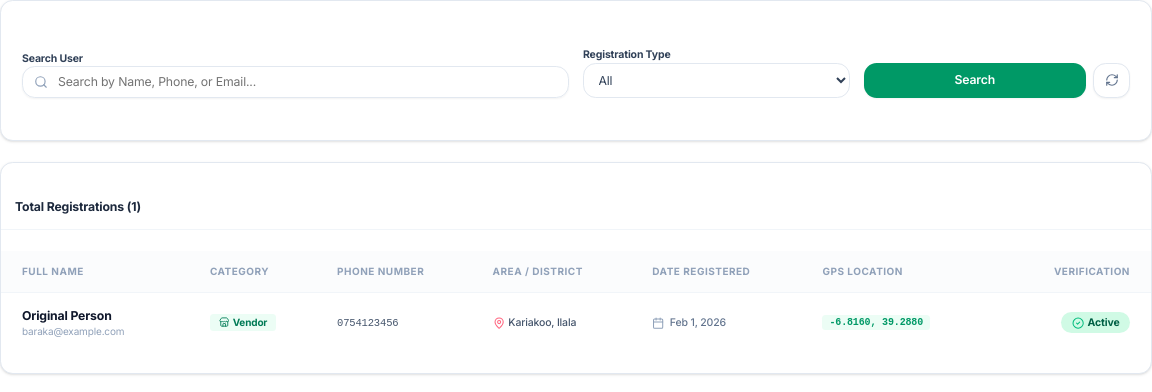
Test: AgentRegistrationsTab › search and filters › replaces the table with the rows returned by a search
Click the button "Search".
click(975, 80)  # box [864, 63, 1086, 98]
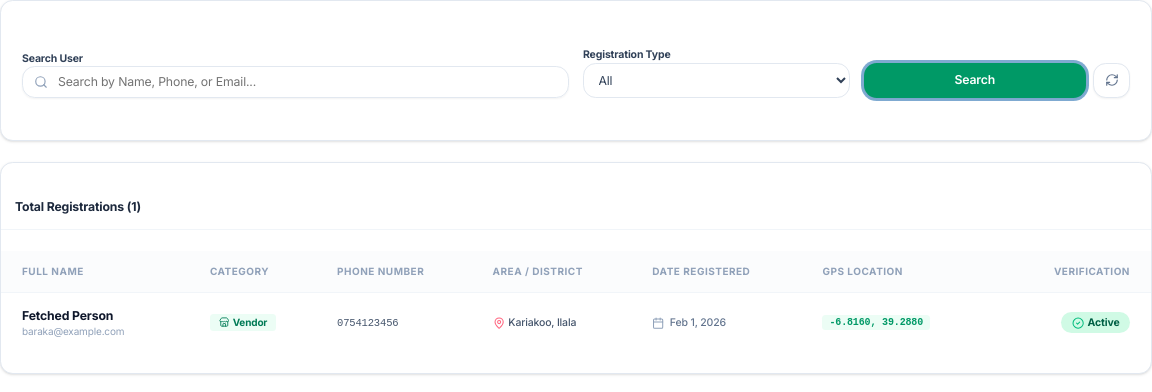
Expected: the text "Total Registrations (1)" is shown, [15, 198, 141, 215]
Expected: the text "Fetched Person" is shown, [22, 308, 113, 323]
Expected: the text "Original Person" is gone
